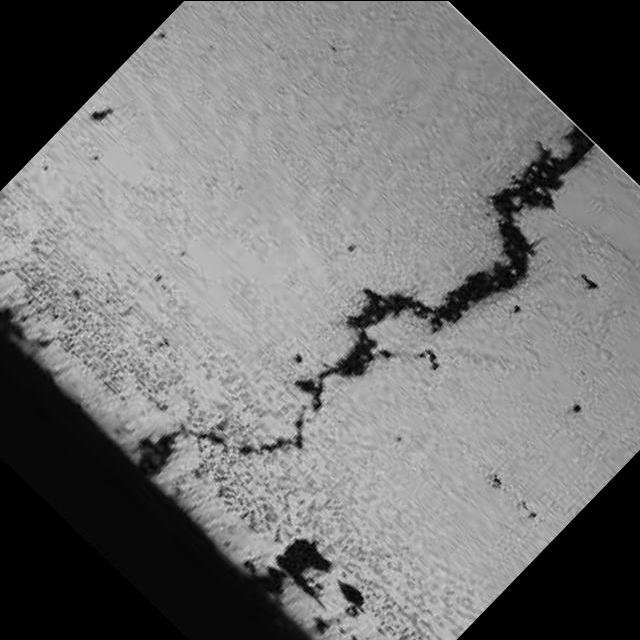defect: (173, 111, 599, 466)
